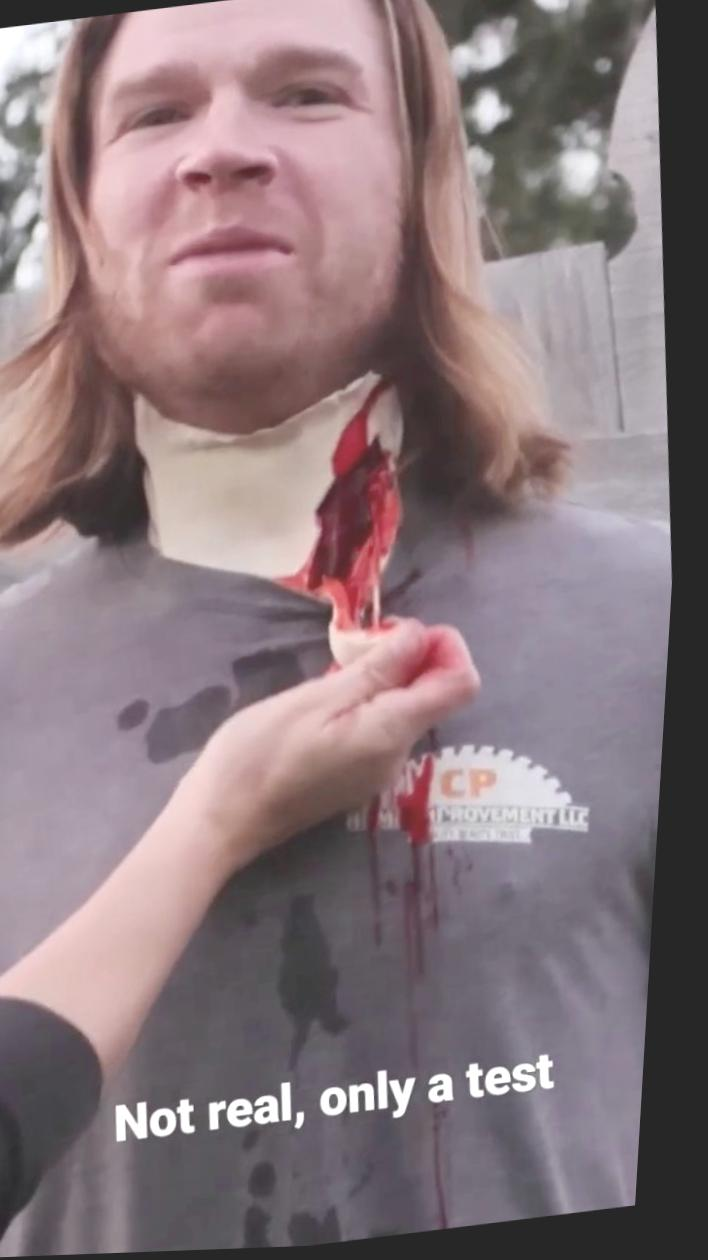Fire: (357, 752, 475, 1019), (285, 382, 407, 635), (447, 1111, 464, 1234)
